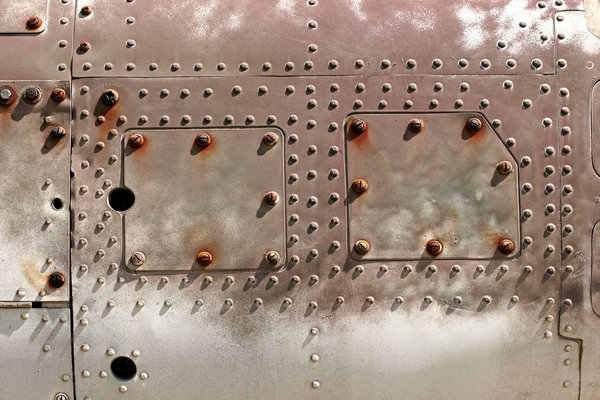rust: (98, 87, 121, 141), (343, 117, 375, 152), (460, 114, 493, 144), (187, 128, 224, 154), (188, 247, 223, 271), (489, 233, 521, 256), (1, 84, 18, 120), (125, 133, 151, 155)
